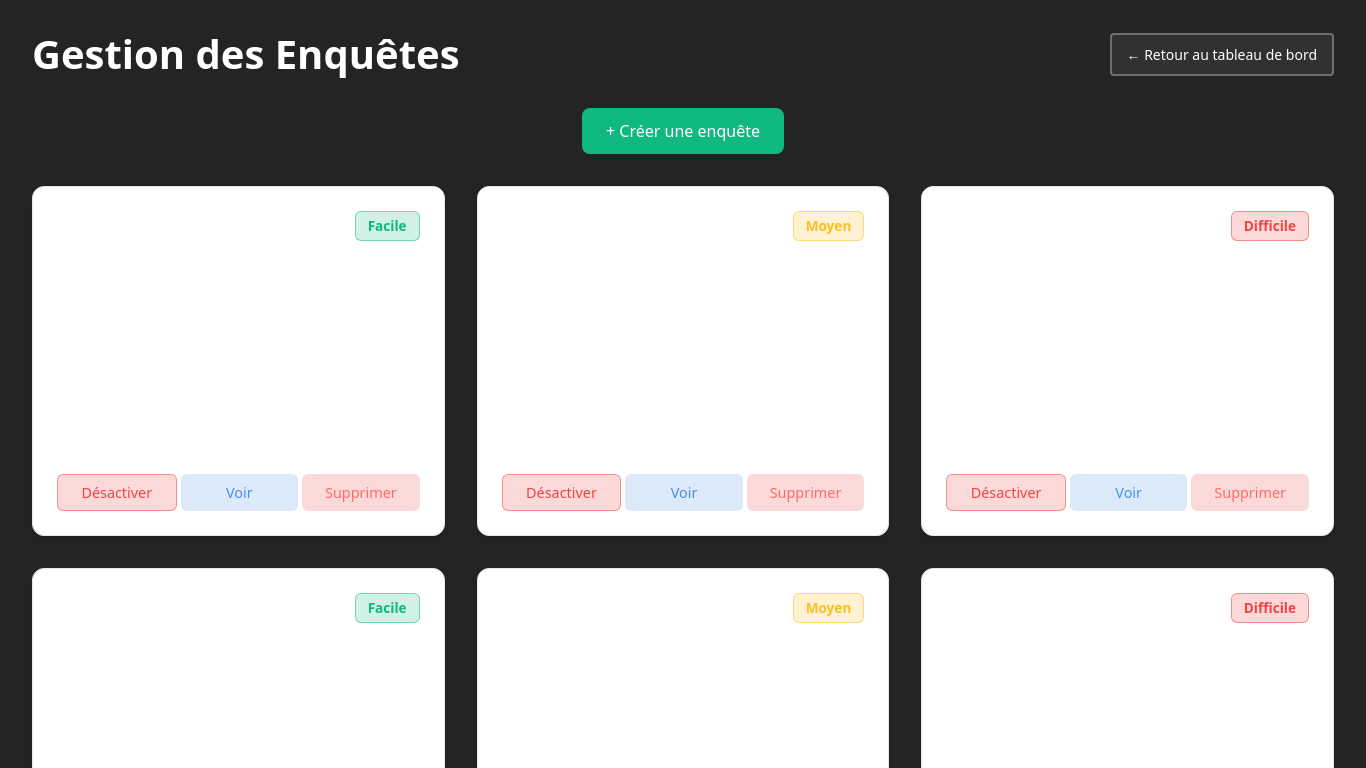
AdminInvestigationsPage › hides create form when cancel button is clicked
Click the button "+ Créer une enquête": (683, 131) [582,108,784,154]
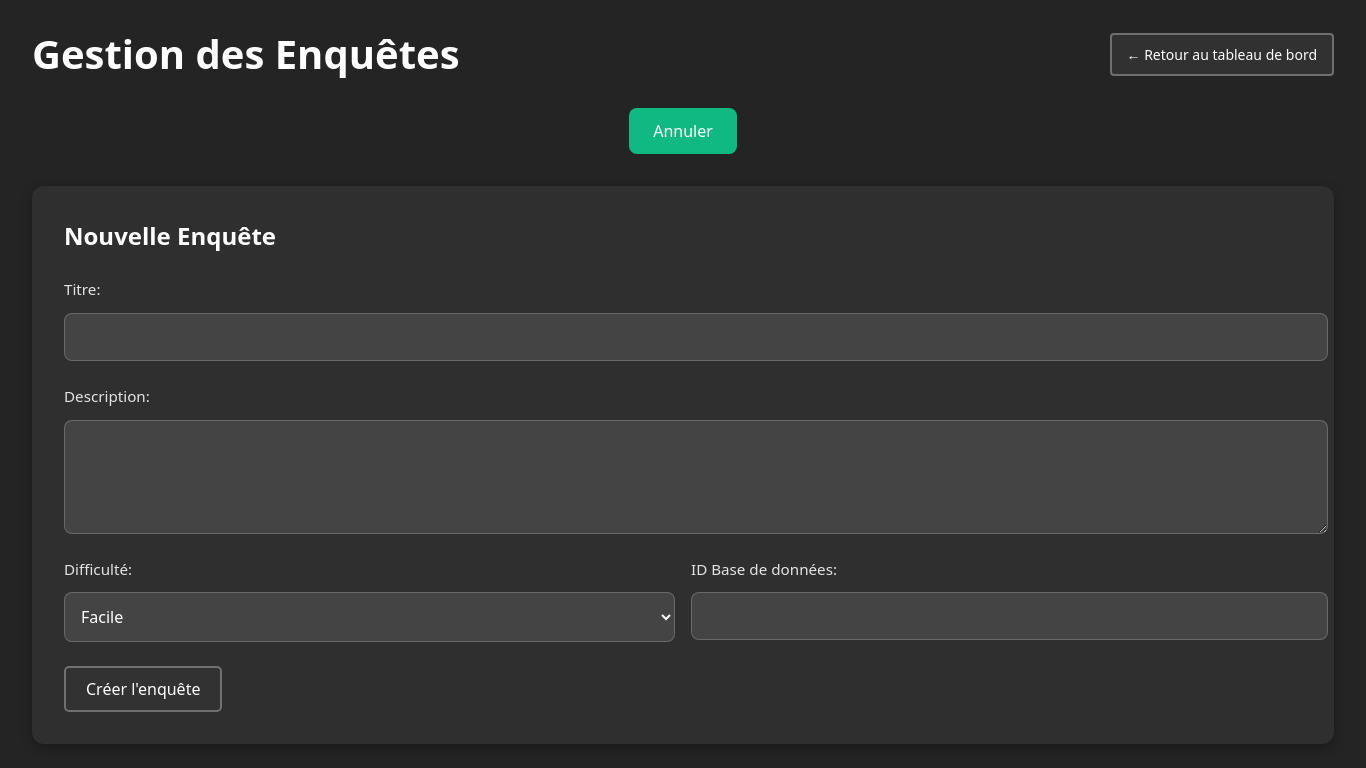
Expected: the heading "Nouvelle Enquête" is shown, [64,219,276,252]
Click the button "Annuler": (683, 131) [629,108,737,154]
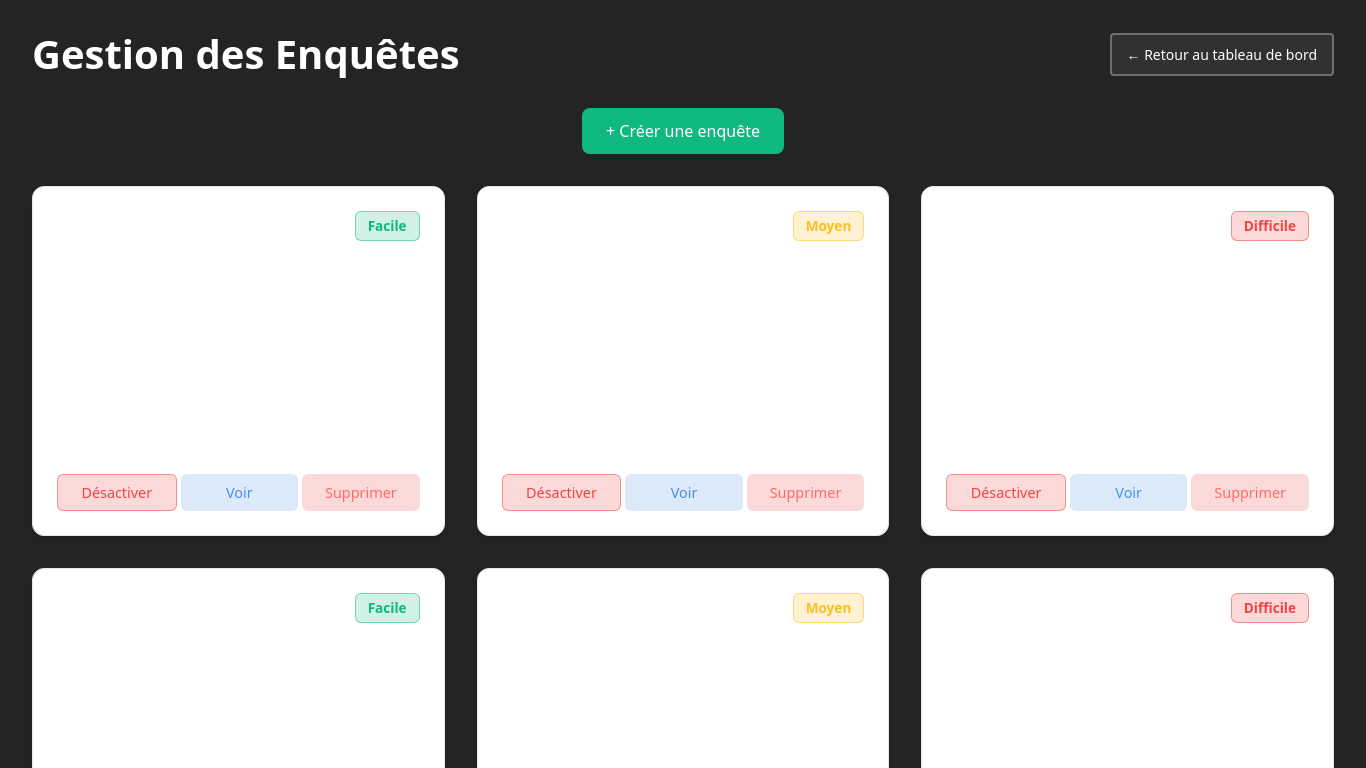
Expected: the heading "Nouvelle Enquête" is gone
